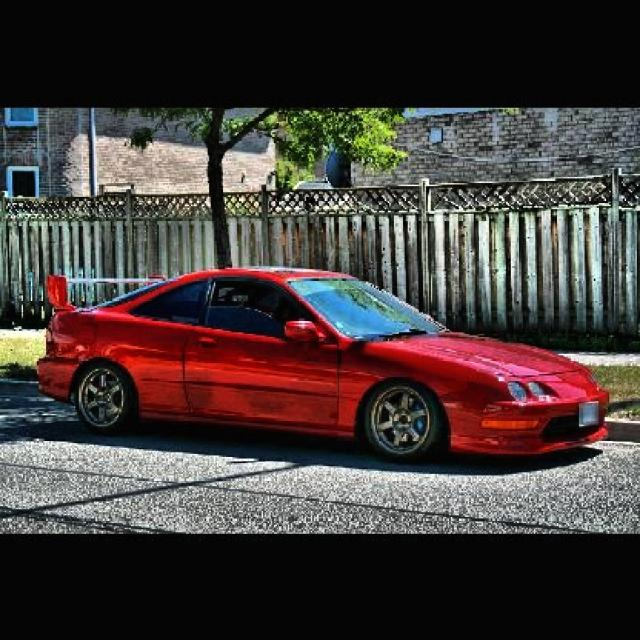red: (36, 264, 606, 466)
